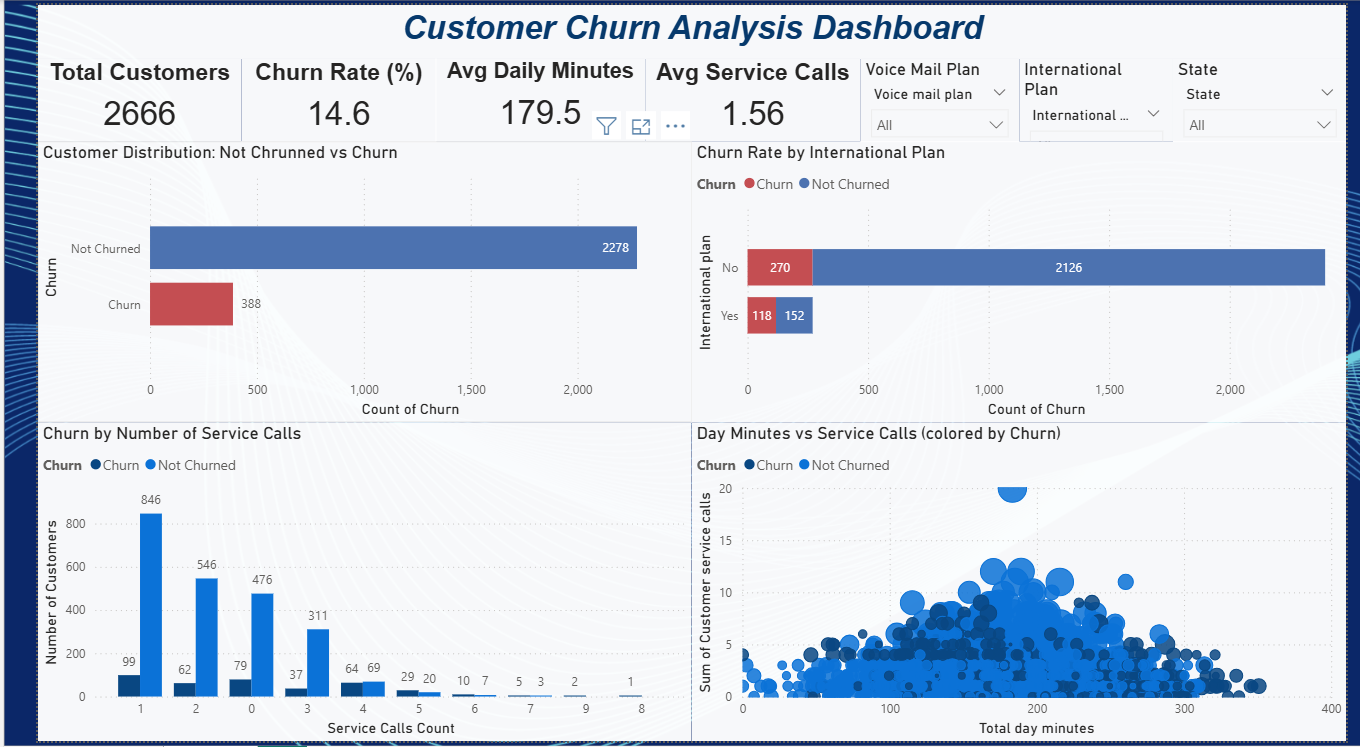

Layout of this report page (visuals, bound fields, positions):
{"tool":"powerbi","page":{"name":"Page 1","canvas":[1280,720],"ordinal":0},"visuals":[{"type":"card","title":"        Total Customers","fields":{"Values":["churn-bigml-80 coddeva.Total Customers"]},"box":[0,52.6,199.3,80.7],"z":0},{"type":"card","title":"Churn Rate (%)","fields":{"Values":["churn-bigml-80 coddeva.churn rate"]},"box":[198.8,52.5,190,81.2],"z":1000},{"type":"card","title":"Avg Daily Minutes","fields":{"Values":["churn-bigml-80 coddeva.Average day minutes"]},"box":[388.9,52.6,205.4,80.7],"z":2000},{"type":"card","title":"Avg Service Calls","fields":{"Values":["churn-bigml-80 coddeva.Average service calls"]},"box":[594.3,52.6,210.3,80.7],"z":3000},{"type":"clusteredBarChart","title":"Customer Distribution: Not Chrunned vs Churn","fields":{"Category":["churn-bigml-80 coddeva.Churn"],"Y":["CountNonNull(churn-bigml-80 coddeva.Churn)"]},"box":[0,133.3,639.5,275.1],"z":4000},{"type":"barChart","title":"Churn Rate by International Plan","fields":{"Category":["churn-bigml-80 coddeva.International plan"],"Series":["churn-bigml-80 coddeva.Churn"],"Y":["CountNonNull(churn-bigml-80 coddeva.Churn)"]},"box":[639.5,133.3,640.8,275.1],"z":5000},{"type":"clusteredColumnChart","title":"Churn by Number of Service Calls","fields":{"Category":["churn-bigml-80 coddeva.Customer service calls"],"Series":["churn-bigml-80 coddeva.Churn"],"Y":["churn-bigml-80 coddeva.Total Customers"]},"box":[0,408.4,639.5,311.8],"z":6000},{"type":"scatterChart","title":"Day Minutes vs Service Calls (colored by Churn)","fields":{"X":["churn-bigml-80 coddeva.Total day minutes"],"Y":["Sum(churn-bigml-80 coddeva.Customer service calls)"],"Series":["churn-bigml-80 coddeva.Churn"],"Size":["Sum(churn-bigml-80 coddeva.Account length)"]},"box":[639.5,408.4,640.8,311.8],"z":7000},{"type":"slicer","title":"International Plan","fields":{"Values":["churn-bigml-80 coddeva.International plan"]},"box":[959.9,52.6,150.4,80.7],"z":8000},{"type":"slicer","title":"Voice Mail Plan","fields":{"Values":["churn-bigml-80 coddeva.Voice mail plan"]},"box":[805,52.5,155,81.2],"z":9000},{"type":"slicer","title":"State","fields":{"Values":["churn-bigml-80 coddeva.State"]},"box":[1110,52.5,170,81.2],"z":10000},{"type":"textbox","box":[0,0,1280.3,52.6],"z":11000}]}

Visuals, with their boxes in screenshot pixels (x1, y1, x2, y2), scaled from the page's 1280x720 canvas onto the 1360x747 screenshot:
"        Total Customers" card: region(0, 55, 212, 138)
"Churn Rate (%)" card: region(211, 54, 413, 139)
"Avg Daily Minutes" card: region(413, 55, 631, 138)
"Avg Service Calls" card: region(631, 55, 855, 138)
"Customer Distribution: Not Chrunned vs Churn" clusteredBarChart: region(0, 138, 679, 424)
"Churn Rate by International Plan" barChart: region(679, 138, 1359, 424)
"Churn by Number of Service Calls" clusteredColumnChart: region(0, 424, 679, 746)
"Day Minutes vs Service Calls (colored by Churn)" scatterChart: region(679, 424, 1359, 746)
"International Plan" slicer: region(1020, 55, 1180, 138)
"Voice Mail Plan" slicer: region(855, 54, 1020, 139)
"State" slicer: region(1179, 54, 1359, 139)
textbox: region(0, 0, 1359, 55)
